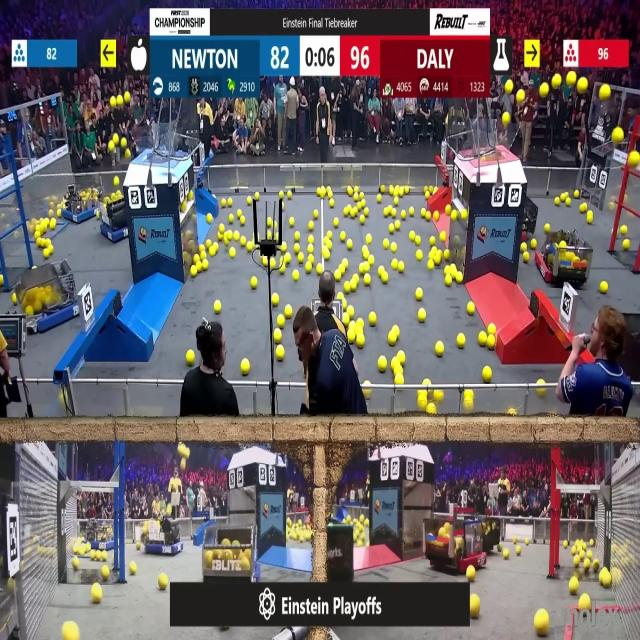ball_airborne: (614, 128, 624, 144), (600, 86, 610, 101), (576, 78, 586, 92), (566, 73, 576, 87), (629, 151, 638, 166), (553, 74, 562, 88), (539, 85, 548, 98), (178, 446, 187, 458), (501, 112, 509, 124), (504, 80, 512, 92), (517, 92, 525, 104), (167, 504, 173, 516), (123, 93, 129, 105), (123, 148, 130, 158), (180, 459, 186, 470), (110, 97, 116, 108), (108, 142, 115, 151), (120, 138, 126, 148), (112, 135, 118, 145), (114, 176, 119, 186)
ball_ground: (534, 612, 548, 637), (468, 595, 479, 618), (64, 623, 78, 640), (600, 569, 610, 587), (93, 586, 103, 604), (581, 594, 591, 610), (569, 580, 578, 596), (160, 573, 169, 589), (464, 390, 473, 406), (274, 330, 283, 344), (242, 359, 250, 374), (186, 350, 194, 365), (379, 356, 387, 371), (484, 365, 492, 380), (276, 346, 284, 361), (466, 566, 474, 580), (419, 395, 427, 409), (435, 342, 442, 357), (457, 335, 465, 348), (213, 302, 221, 315), (487, 337, 495, 350), (284, 306, 292, 319), (356, 336, 364, 349), (348, 331, 356, 344), (102, 566, 109, 580), (466, 304, 474, 316), (272, 293, 280, 305), (479, 334, 487, 346), (434, 390, 442, 402), (130, 562, 138, 574), (322, 248, 330, 260), (388, 334, 396, 346), (600, 281, 607, 294), (368, 313, 375, 326), (397, 352, 404, 365), (394, 375, 402, 386), (277, 316, 285, 327), (427, 405, 435, 416), (419, 310, 426, 322), (416, 288, 423, 300), (343, 314, 350, 326), (350, 282, 358, 292), (394, 364, 402, 374), (363, 275, 370, 286), (73, 558, 80, 569), (456, 273, 463, 284), (270, 257, 277, 268), (361, 247, 368, 258), (246, 242, 253, 253), (251, 277, 257, 289), (588, 211, 594, 223), (263, 255, 269, 267), (324, 240, 332, 249), (356, 319, 364, 328), (488, 324, 495, 334), (306, 265, 313, 275), (316, 266, 323, 276), (192, 254, 199, 264), (388, 222, 395, 232), (434, 254, 441, 264), (621, 224, 628, 234), (451, 210, 458, 220), (101, 552, 108, 562), (572, 557, 579, 567), (461, 210, 468, 220), (624, 240, 630, 251), (445, 249, 451, 260), (446, 276, 452, 287), (397, 263, 403, 274), (344, 282, 350, 293), (190, 267, 196, 278), (49, 218, 55, 229), (383, 240, 390, 249), (445, 267, 452, 276), (351, 208, 358, 217), (36, 239, 43, 248), (445, 206, 452, 215), (203, 262, 209, 272), (524, 252, 530, 262), (11, 294, 17, 304), (298, 253, 304, 263), (308, 244, 314, 254), (531, 240, 537, 250), (309, 220, 315, 230), (417, 250, 423, 260), (284, 254, 290, 264), (336, 272, 342, 282), (348, 306, 354, 316), (392, 262, 398, 272), (430, 237, 436, 247), (292, 242, 298, 252), (281, 242, 287, 252), (292, 272, 298, 282), (502, 550, 508, 560), (365, 235, 371, 245), (43, 249, 49, 259), (432, 211, 438, 221), (335, 217, 341, 227), (390, 243, 396, 253), (391, 358, 397, 368), (425, 211, 431, 221), (226, 230, 232, 240), (196, 264, 202, 274), (608, 202, 614, 212), (383, 274, 388, 285), (341, 233, 347, 242), (442, 233, 448, 242), (394, 220, 400, 229), (379, 267, 385, 276), (410, 233, 416, 242), (280, 267, 286, 276), (227, 214, 233, 223), (268, 217, 274, 226), (231, 248, 237, 257), (344, 207, 350, 216), (579, 204, 585, 213), (430, 247, 436, 256), (393, 198, 399, 207), (578, 552, 584, 561), (363, 389, 369, 398), (0, 275, 4, 288), (348, 240, 353, 250), (428, 262, 433, 272), (294, 233, 299, 243), (359, 264, 364, 274), (400, 210, 405, 220), (514, 546, 519, 556), (384, 207, 389, 217), (341, 264, 346, 274), (210, 248, 216, 256), (363, 208, 369, 216), (424, 379, 430, 387), (326, 232, 332, 240), (308, 254, 314, 262), (359, 215, 365, 223), (328, 200, 334, 208), (217, 234, 223, 242), (566, 200, 572, 208), (573, 190, 579, 198), (268, 232, 274, 240), (353, 275, 359, 283), (220, 200, 226, 208), (585, 560, 591, 568), (254, 192, 260, 200), (560, 192, 566, 200), (353, 192, 359, 200), (363, 519, 369, 527), (201, 250, 207, 258), (522, 243, 527, 252), (314, 210, 319, 219), (289, 217, 294, 226), (241, 238, 246, 247), (391, 209, 396, 218), (241, 216, 246, 225), (416, 237, 421, 246), (247, 198, 252, 207), (381, 184, 386, 193), (309, 237, 315, 244), (537, 379, 543, 386), (237, 210, 243, 217), (358, 192, 364, 199), (544, 222, 548, 232), (421, 209, 426, 217), (207, 214, 212, 222), (227, 200, 232, 208), (219, 223, 224, 231), (368, 256, 373, 264), (235, 232, 240, 240), (451, 266, 456, 274), (588, 552, 593, 560), (207, 240, 212, 248), (327, 190, 332, 198), (48, 210, 53, 218), (274, 220, 279, 228), (411, 208, 415, 217), (556, 198, 560, 207), (378, 193, 382, 202), (524, 538, 530, 544), (572, 545, 576, 554), (92, 552, 96, 561), (84, 548, 90, 554), (339, 292, 344, 299), (287, 191, 292, 198), (563, 540, 568, 547), (137, 541, 141, 549), (280, 190, 284, 198), (224, 239, 228, 246), (425, 191, 429, 198), (58, 210, 62, 217), (424, 185, 428, 192), (281, 204, 284, 211)
goal: (466, 122, 521, 160), (126, 129, 188, 159)
robot_blue: (18, 262, 81, 333), (142, 518, 184, 555), (99, 192, 130, 242), (63, 184, 99, 224), (87, 522, 114, 550)
robot_red: (426, 514, 492, 572), (538, 230, 592, 288)
